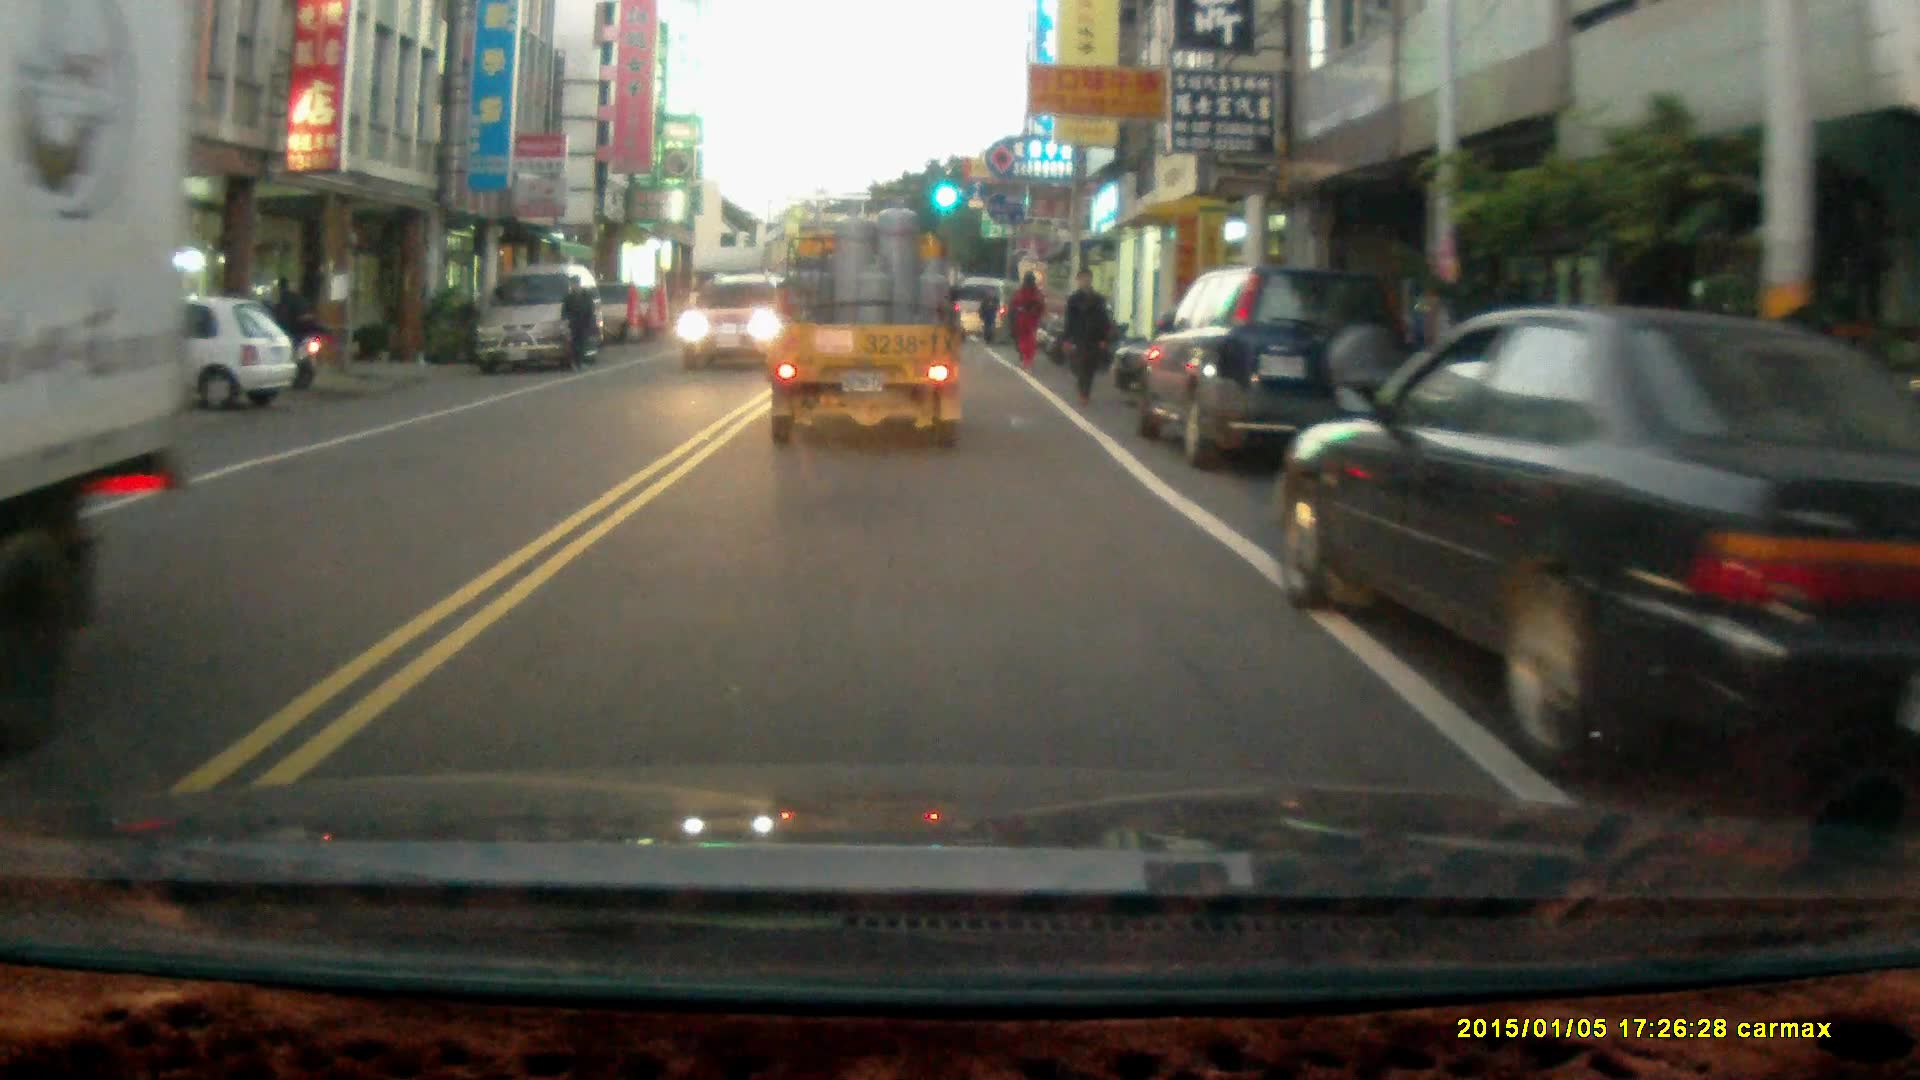pedestrian: (1059, 261, 1115, 407), (555, 274, 599, 370), (1006, 272, 1043, 371), (978, 287, 1002, 344)
rider: (236, 280, 323, 393)
vehicle: (1273, 306, 1920, 774), (1, 14, 209, 730), (1140, 263, 1413, 471), (767, 195, 968, 453), (72, 291, 291, 411), (475, 265, 603, 374), (675, 278, 783, 373)
